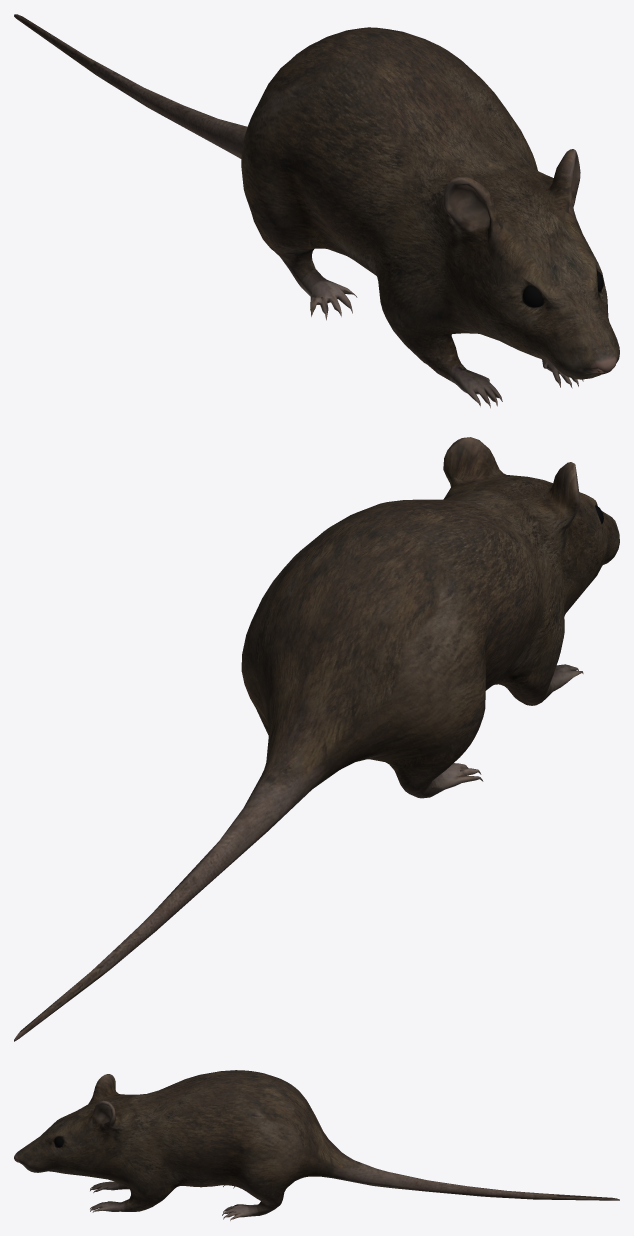
The model's file is street_rat.glb.
3 views of the same model, one above another, from view 1: azimuth 30°, elevation 25°; view 2: azimuth 150°, elevation 25°; view 3: azimuth 270°, elevation 25° (orthographic). The views are drawn at different scales.
Parts seen in each view (by area): view 1: street_rat; view 2: street_rat; view 3: street_rat.
Part boxes in pixels (box(x1,y1,x2,y2)): street_rat: box(14, 14, 619, 408); street_rat: box(14, 437, 619, 1041); street_rat: box(14, 1070, 619, 1220).
Bounding box in the file's own units: 0.0319 × 0.0337 × 0.1483.
1 material, 1 textured.
